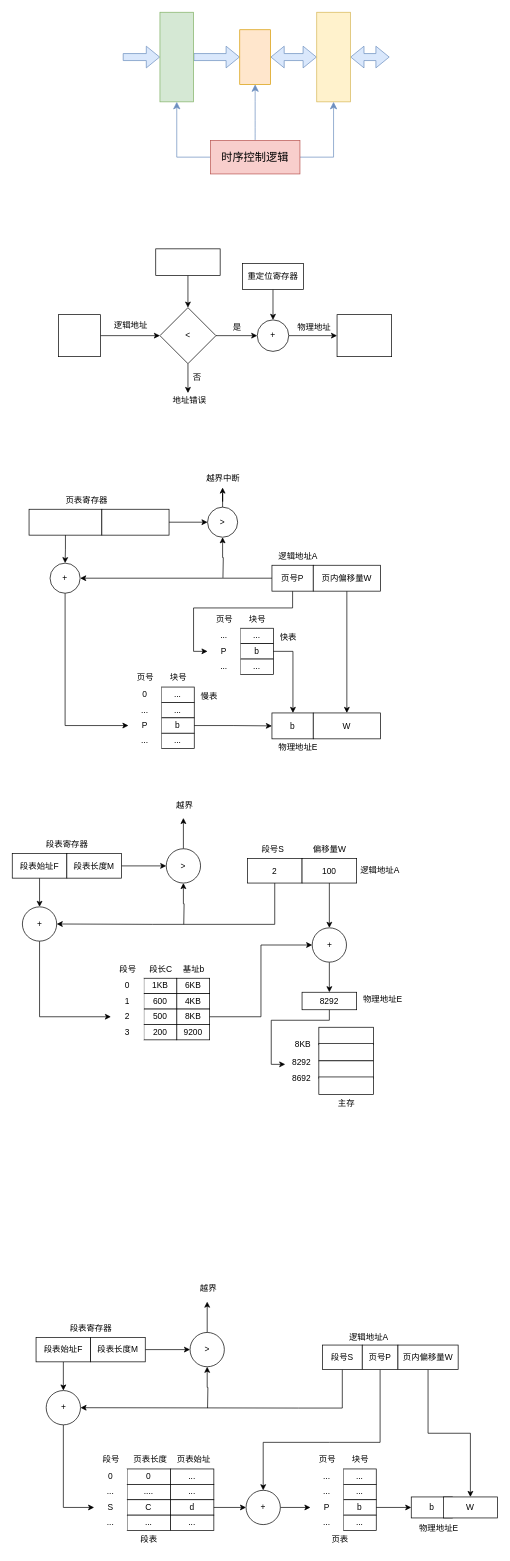
Image size: 510x1561. Some labels were removed from this diagram. Here are the shapes that lost their labels. From the top down, the centre of each, then its label:
At (176,57): "地 址 寄 存 器".
At (255,56): "存 储 体".
At (333,57): "数 据 寄 存 器".
At (187,261): "界地址寄存器".
At (79,335): "CPU".
At (364,335): "内存".
At (65,522): "页表起始地址F".
At (135,522): "页表长度M".
